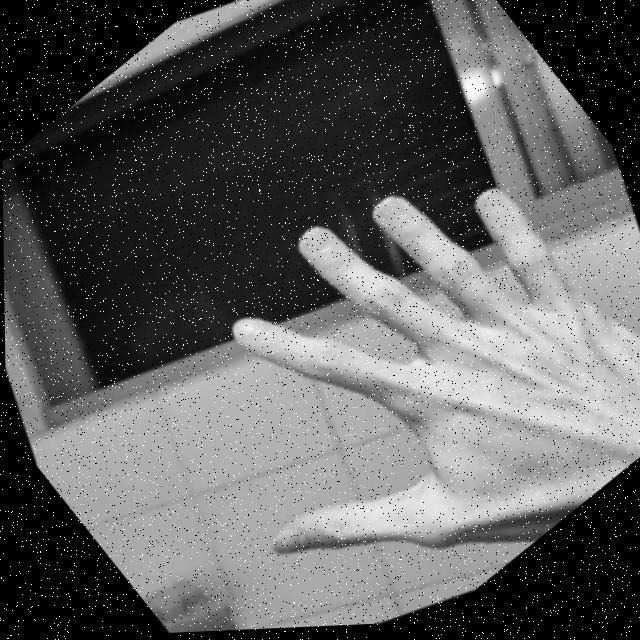hand: (117, 84, 640, 636)
